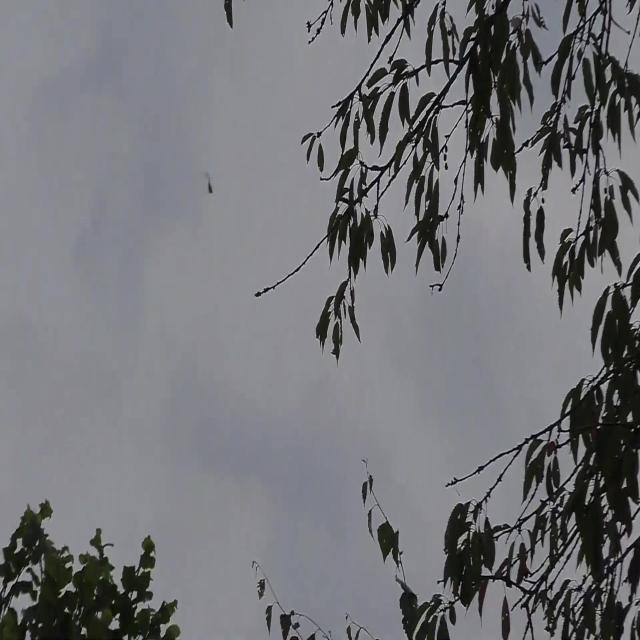CIV_HELO: (206, 172, 213, 194)
